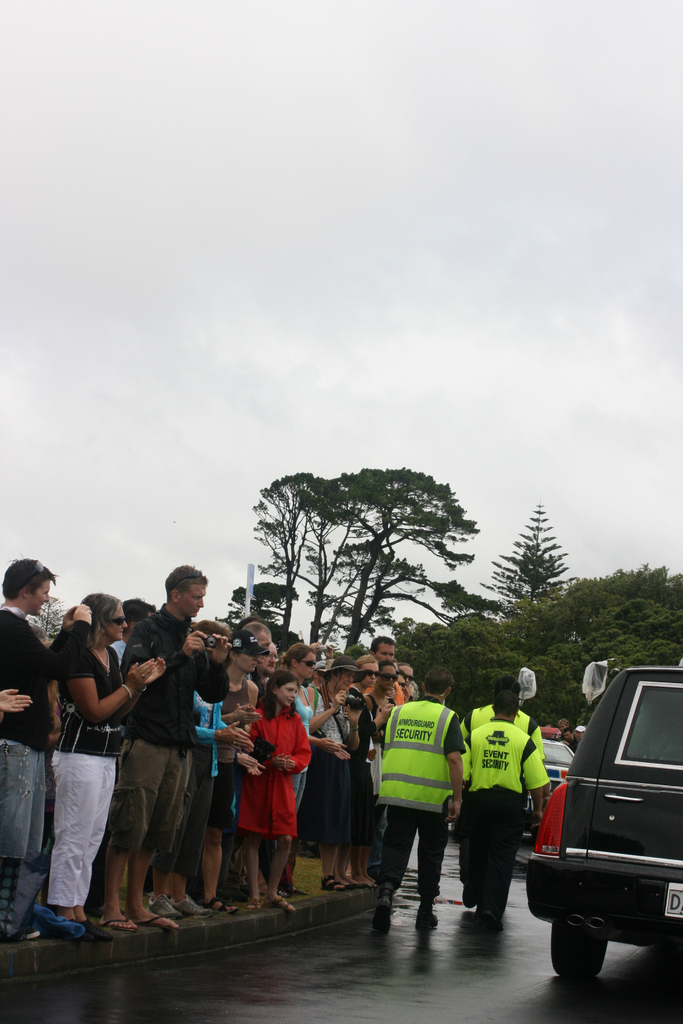cars: (521, 654, 682, 978)
